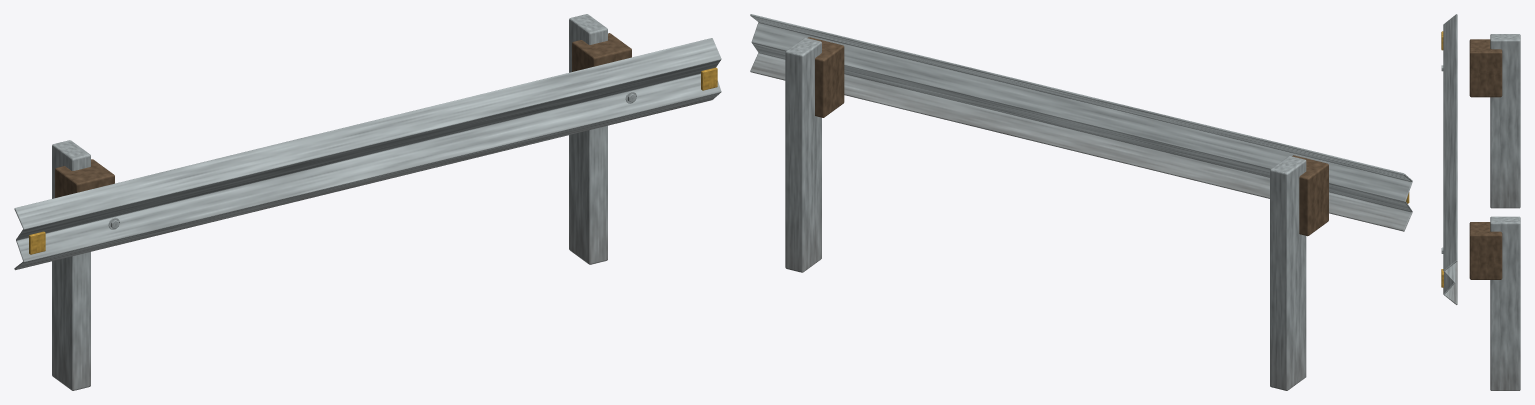
File: GR_Guardrail_03.glb
3 views of the same model, side by side, from view 1: azimuth 30°, elevation 25°; view 2: azimuth 150°, elevation 25°; view 3: azimuth 270°, elevation 25° (orthographic). The views are drawn at different scales.
Parts seen in each view (by area): view 1: Static; view 2: Static; view 3: Static.
Part boxes in pixels (<box>): Static: <box>14,14,721,390</box>; Static: <box>750,14,1412,390</box>; Static: <box>1441,14,1520,390</box>.
Bounding box in the file's own units: 2.7 × 0.86 × 0.366.
Materials: 1 (1 with a texture image).
